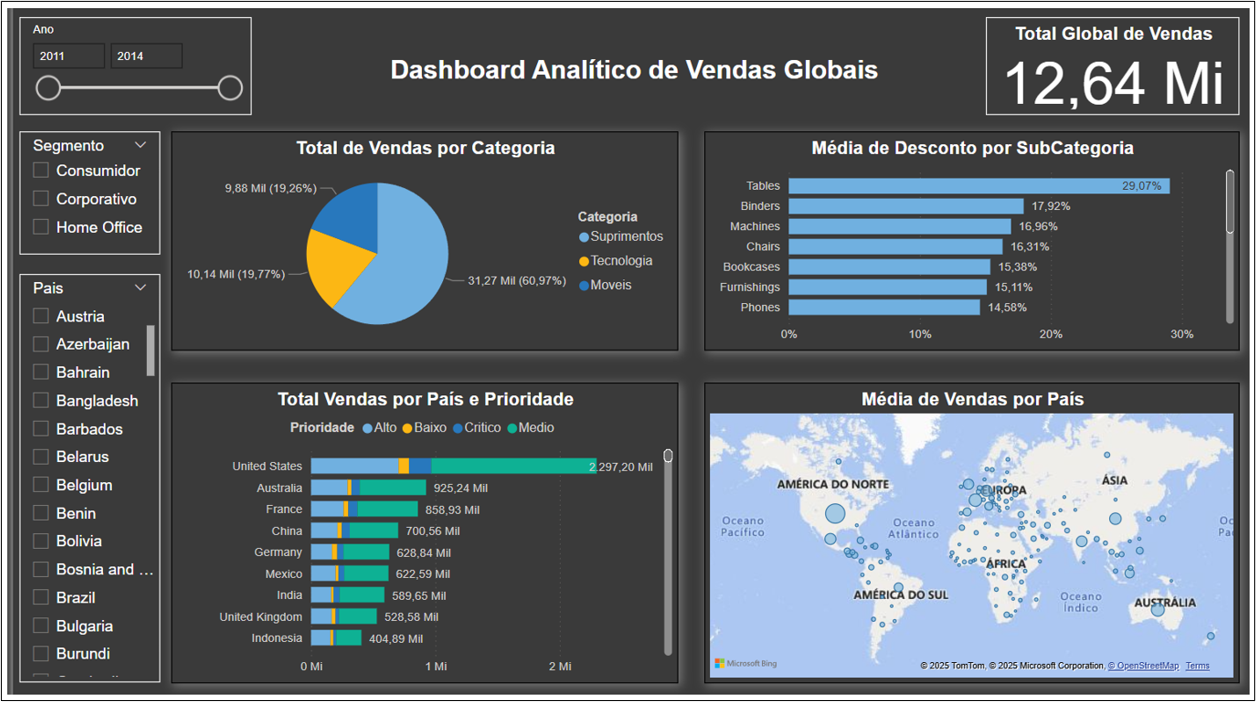

What the dashboard file says about the page in this screenshot:
{"tool":"powerbi","page":{"name":"Lab 1","canvas":[1280,720],"ordinal":0},"visuals":[{"type":"card","title":"Total Global de Vendas ","fields":{"Values":["Sum(dataset.Total_Vendas)"]},"box":[1001.9,14.4,261.2,101.4],"z":0},{"type":"pieChart","title":"Total de Vendas por Categoria","fields":{"Category":["dataset.Categoria"],"Y":["CountNonNull(dataset.ID_Pedido)"]},"box":[162.5,132,521.6,226.2],"z":1000},{"type":"barChart","title":"Total Vendas por País e Prioridade","fields":{"Y":["Sum(dataset.Total_Vendas)"],"Category":["dataset.Pais"],"Series":["dataset.Prioridade"]},"box":[162.5,390.5,521.6,309.7],"z":2000},{"type":"clusteredBarChart","fields":{"Category":["dataset.SubCategoria"],"Y":["Avg(dataset.Desconto)"]},"box":[711.9,132,551.2,226.2],"z":3000},{"type":"map","title":"Média de Vendas por País","fields":{"Category":["dataset.Pais"],"Size":["Sum(dataset.Total_Vendas)"]},"box":[711.9,390.5,551.2,309.7],"z":4000},{"type":"slicer","fields":{"Values":["dataset.Pais"]},"box":[6.3,279.2,144.5,421],"z":5000},{"type":"slicer","fields":{"Values":["dataset.Segmento"]},"box":[6.3,132,144.5,127.5],"z":6000},{"type":"slicer","fields":{"Values":["dataset.Data_Pedido.Variation.Hierarquia de datas.Ano"]},"box":[6.3,14.4,238.8,101.4],"z":7000},{"type":"textbox","box":[352.8,48.5,574.6,45.8],"z":8000}]}

Visuals, with their boxes in screenshot pixels (x1, y1, x2, y2), scaled from the page's 1280x720 canvas onto the 1256x702 screenshot:
"Total Global de Vendas " card: crop(983, 14, 1239, 113)
"Total de Vendas por Categoria" pieChart: crop(159, 129, 671, 349)
"Total Vendas por País e Prioridade" barChart: crop(159, 381, 671, 683)
clusteredBarChart - dataset.SubCategoria x Avg(dataset.Desconto): crop(699, 129, 1239, 349)
"Média de Vendas por País" map: crop(699, 381, 1239, 683)
slicer - dataset.Pais: crop(6, 272, 148, 683)
slicer - dataset.Segmento: crop(6, 129, 148, 253)
slicer - dataset.Data_Pedido.Variation.Hierarquia de datas.Ano: crop(6, 14, 241, 113)
textbox: crop(346, 47, 910, 92)
